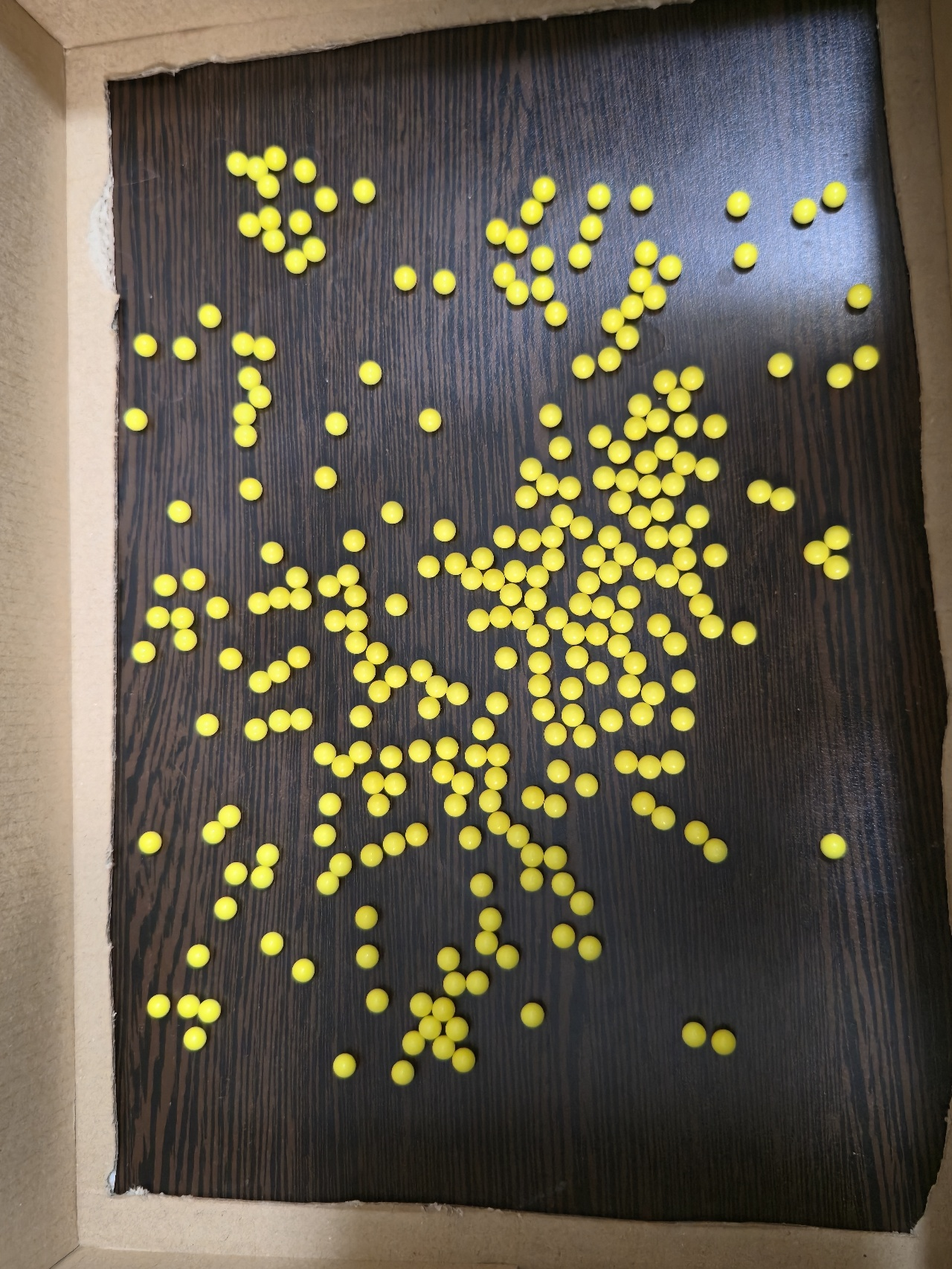yellow_bead: (231, 157, 274, 193), (498, 271, 524, 300), (244, 372, 265, 403), (491, 228, 521, 248), (237, 338, 268, 355), (243, 218, 259, 232), (289, 254, 303, 269), (739, 248, 753, 263), (625, 300, 639, 314), (829, 531, 844, 544), (832, 370, 847, 383), (536, 251, 549, 266), (306, 242, 319, 257), (635, 190, 648, 205), (828, 187, 841, 202), (585, 219, 597, 235), (202, 1004, 215, 1018), (826, 840, 840, 853), (829, 561, 843, 574), (775, 493, 789, 506), (672, 393, 685, 407), (859, 351, 873, 364), (607, 313, 620, 327), (648, 290, 661, 304), (853, 289, 866, 303), (536, 281, 549, 295), (663, 260, 676, 274), (640, 246, 653, 260), (298, 164, 311, 178), (238, 408, 250, 423), (438, 274, 450, 289), (593, 189, 605, 204), (643, 761, 656, 774), (604, 566, 617, 579), (811, 546, 824, 559), (691, 510, 704, 523), (667, 478, 680, 491), (679, 419, 692, 432), (774, 359, 787, 372), (621, 331, 634, 344), (798, 205, 811, 218), (182, 1000, 196, 1012), (666, 756, 680, 768), (660, 570, 674, 582), (620, 474, 634, 486), (178, 341, 190, 355), (203, 309, 215, 323), (550, 307, 562, 321), (399, 271, 411, 285), (294, 215, 306, 229), (732, 197, 744, 211), (358, 184, 370, 198), (239, 427, 250, 442), (320, 192, 331, 207), (189, 1032, 201, 1045), (152, 1000, 165, 1012), (322, 877, 334, 890), (256, 870, 268, 883), (262, 850, 274, 863), (636, 708, 649, 720), (623, 680, 635, 693), (271, 666, 284, 678), (705, 621, 718, 633), (616, 615, 628, 628), (596, 602, 609, 614), (684, 579, 697, 591), (639, 562, 651, 575), (678, 553, 691, 565), (674, 530, 687, 542), (634, 511, 646, 524), (656, 504, 669, 516), (753, 486, 766, 498), (598, 472, 611, 484), (701, 463, 713, 476), (678, 457, 690, 470), (640, 456, 652, 469), (629, 422, 642, 434), (651, 414, 663, 427), (634, 399, 646, 412), (659, 376, 672, 388), (578, 360, 590, 373), (603, 353, 616, 365), (138, 339, 150, 352), (268, 234, 280, 247), (260, 211, 274, 222), (338, 1060, 350, 1072), (361, 951, 373, 963), (266, 938, 278, 950), (229, 868, 241, 880), (549, 852, 561, 864), (512, 831, 524, 843), (207, 826, 219, 838), (657, 812, 669, 824), (549, 800, 561, 812), (449, 800, 461, 812), (484, 795, 496, 807), (605, 715, 617, 727), (677, 713, 689, 725), (647, 688, 659, 700), (431, 681, 443, 693), (613, 640, 625, 652), (178, 634, 190, 646), (517, 613, 529, 625), (293, 593, 305, 605), (505, 589, 517, 601), (509, 565, 521, 577), (547, 553, 559, 565), (619, 548, 631, 560), (651, 532, 663, 544), (556, 510, 568, 522), (541, 478, 553, 490), (525, 463, 537, 475), (660, 442, 672, 454), (686, 373, 698, 385), (364, 367, 376, 379), (219, 903, 232, 914), (526, 873, 537, 886), (274, 716, 287, 727), (254, 676, 267, 687), (151, 612, 164, 623), (695, 600, 708, 611), (158, 580, 171, 591), (575, 522, 588, 533), (614, 496, 625, 509), (643, 481, 656, 492), (330, 417, 341, 430), (573, 252, 586, 263), (273, 593, 287, 603), (397, 1067, 408, 1079), (449, 978, 460, 990), (472, 977, 483, 989), (298, 965, 309, 977), (443, 954, 454, 966), (192, 951, 204, 962), (480, 938, 492, 949), (484, 914, 495, 926), (576, 898, 587, 910), (557, 878, 568, 890), (335, 859, 346, 871), (366, 850, 378, 861), (527, 849, 538, 861), (388, 838, 399, 850), (411, 829, 422, 841), (457, 778, 468, 790), (553, 766, 564, 778), (337, 760, 348, 772), (620, 757, 632, 768), (470, 751, 482, 762), (492, 750, 504, 761), (579, 730, 590, 742), (201, 720, 213, 731), (567, 710, 578, 722), (423, 702, 434, 714), (451, 689, 463, 700), (565, 684, 577, 695), (678, 676, 690, 687), (591, 668, 603, 679), (359, 666, 370, 678), (629, 658, 641, 669), (571, 652, 582, 664), (669, 639, 681, 650), (591, 629, 603, 640), (739, 628, 750, 640), (567, 628, 579, 639), (654, 620, 665, 632), (473, 615, 485, 626), (390, 600, 402, 611), (575, 599, 587, 610), (530, 593, 541, 605), (623, 591, 634, 603), (187, 574, 199, 585), (532, 571, 544, 582), (477, 553, 488, 565), (588, 550, 599, 562), (710, 550, 721, 562), (266, 547, 277, 559), (524, 535, 536, 546), (603, 532, 615, 543), (547, 531, 558, 543), (563, 483, 575, 494), (613, 446, 625, 457), (555, 442, 566, 454), (594, 431, 605, 443), (709, 422, 721, 433), (424, 415, 436, 426), (545, 410, 556, 422), (637, 800, 650, 810), (451, 1024, 462, 1035), (501, 952, 512, 963), (558, 931, 569, 942), (361, 913, 372, 924), (476, 880, 487, 891), (710, 846, 721, 857), (144, 838, 155, 849), (319, 830, 330, 841), (493, 818, 504, 829), (373, 800, 384, 811), (581, 780, 592, 791), (385, 752, 396, 763), (414, 746, 425, 757), (550, 729, 561, 740), (477, 724, 488, 735), (295, 714, 306, 725), (538, 705, 549, 716), (491, 698, 502, 709), (390, 672, 401, 683), (534, 658, 545, 669), (138, 647, 149, 658), (551, 613, 562, 624), (495, 612, 506, 623), (211, 603, 222, 614), (324, 580, 335, 591), (466, 574, 477, 585), (342, 571, 353, 582), (423, 562, 434, 573), (387, 507, 398, 518), (521, 492, 532, 503), (245, 484, 256, 495), (130, 414, 141, 425), (688, 1029, 698, 1041), (527, 1009, 537, 1021), (372, 995, 382, 1007), (465, 832, 475, 844), (491, 773, 501, 785), (438, 766, 448, 778), (534, 680, 544, 692), (224, 654, 236, 664), (351, 637, 361, 649), (533, 630, 543, 642), (634, 274, 643, 287), (538, 184, 547, 197), (408, 1040, 419, 1050), (223, 812, 234, 822), (324, 799, 334, 810), (527, 794, 538, 804), (389, 780, 400, 790), (319, 749, 330, 759), (355, 747, 365, 758), (442, 743, 452, 754), (416, 666, 426, 677), (501, 653, 511, 664), (293, 652, 303, 663), (371, 649, 382, 659), (350, 616, 361, 626), (176, 614, 187, 624), (350, 591, 360, 602), (583, 578, 594, 588), (488, 576, 499, 586), (499, 532, 509, 543), (439, 526, 450, 536), (174, 506, 184, 517), (585, 942, 594, 954), (691, 827, 700, 839), (330, 617, 342, 626), (254, 599, 266, 608), (526, 205, 535, 217), (438, 1044, 448, 1054), (356, 712, 366, 722), (374, 687, 384, 697), (292, 573, 302, 583), (348, 536, 358, 546), (320, 473, 330, 483), (416, 999, 425, 1010), (451, 559, 460, 570), (367, 780, 379, 788), (424, 1024, 431, 1034), (272, 153, 280, 161), (718, 1041, 725, 1048), (458, 1059, 464, 1066), (251, 732, 260, 736), (438, 1006, 442, 1013), (250, 730, 251, 731)
